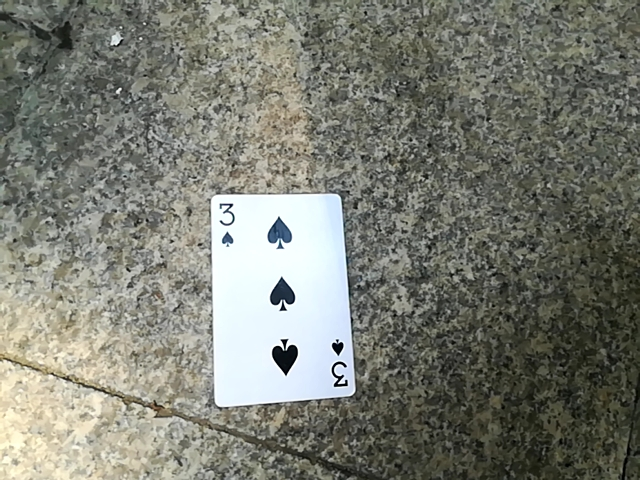ht 3: (215, 183, 358, 403)
